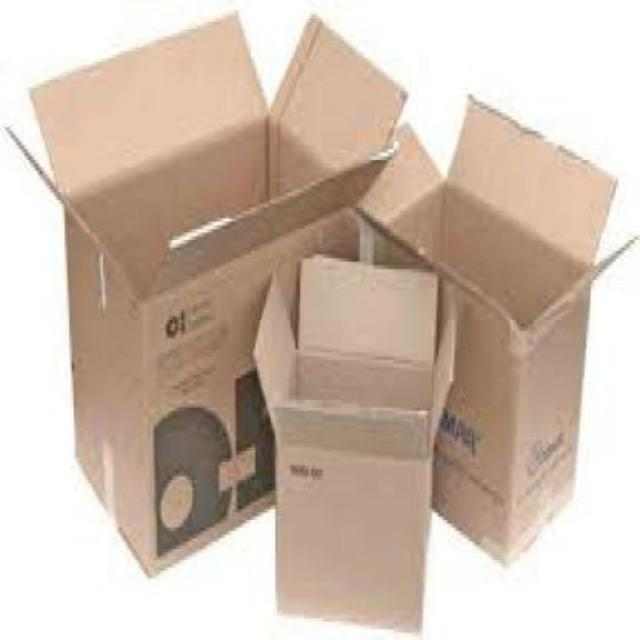cardboard_box: (27, 19, 405, 571), (372, 128, 598, 584), (233, 254, 457, 636)
